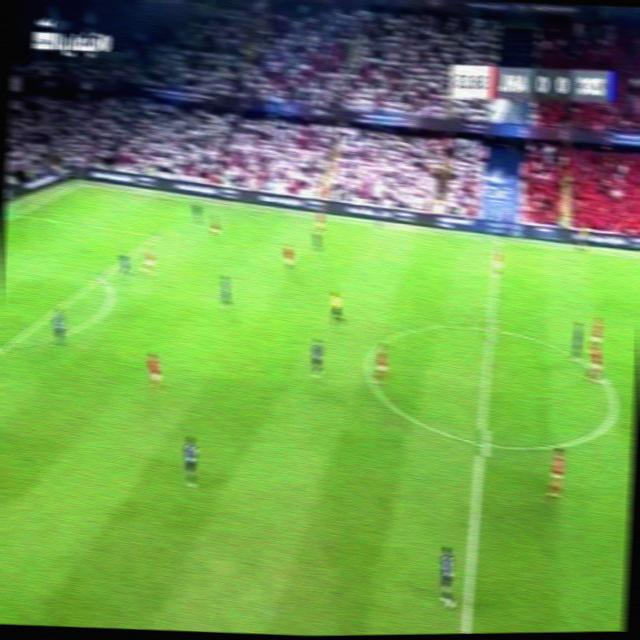bigarea_top_inner: (154, 232, 163, 242)
bottom_arc_area_intersection: (4, 340, 15, 352)
corner: (76, 181, 86, 186)
halfcircle_bottom: (474, 429, 493, 456)
halfcircle_top: (480, 318, 502, 343)
smallarea_top_inner: (2, 250, 8, 260)
top_arc_area_intersection: (96, 271, 108, 285)
